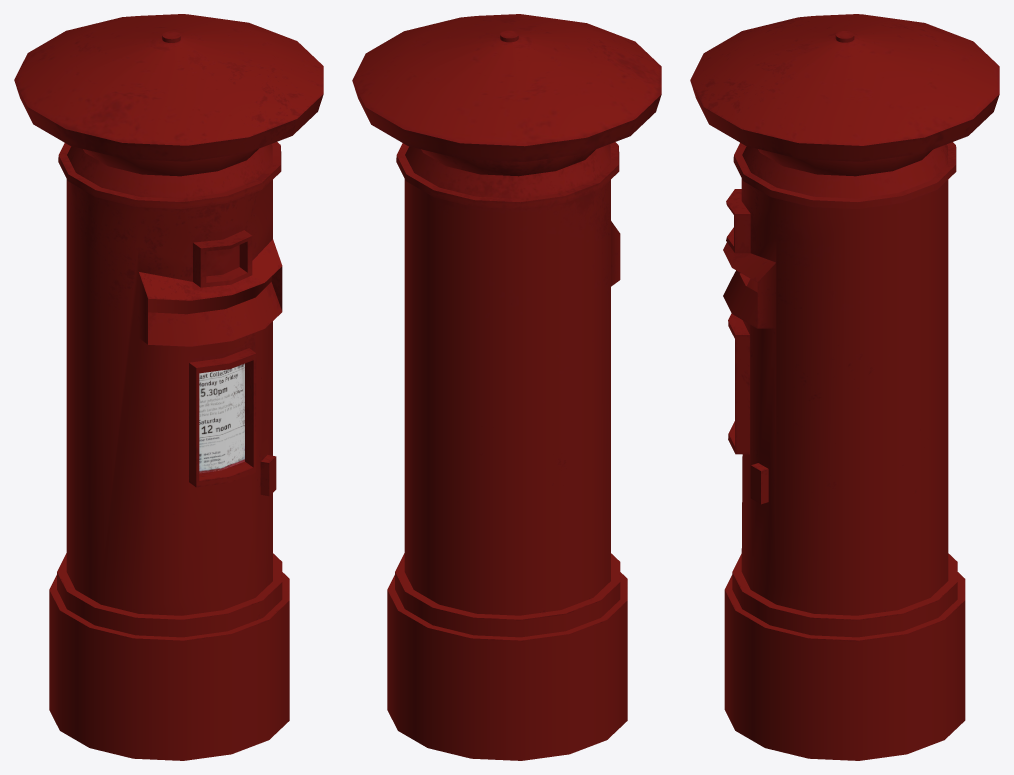
3 renders of one model, left to right at view 1: azimuth 30°, elevation 25°; view 2: azimuth 150°, elevation 25°; view 3: azimuth 270°, elevation 25°, orthographic.
Parts seen in each view (by area): view 1: mailbox_londres_3; view 2: mailbox_londres_3; view 3: mailbox_londres_3.
Boxes of the visible parts, x1,y1,x2,y2 form: mailbox_londres_3: (14,14,323,760); mailbox_londres_3: (352,14,661,760); mailbox_londres_3: (690,14,999,760).
Bounding box in the file's own units: 0.836 × 2 × 0.8314.
1 material, 1 textured.
